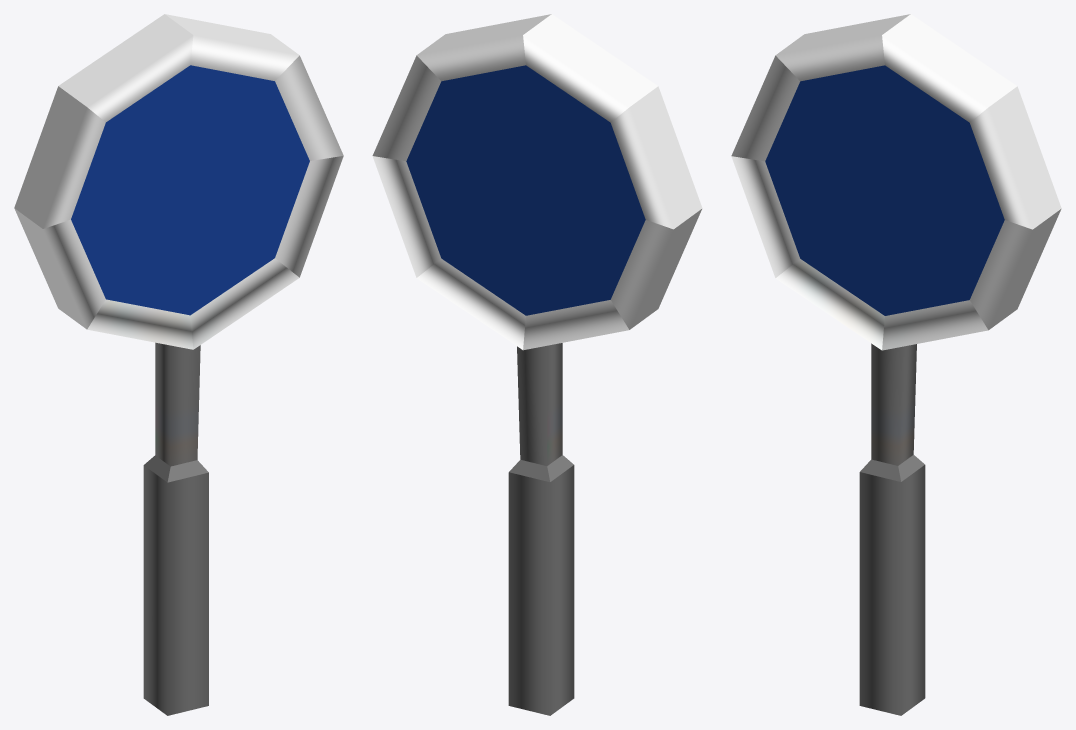
Rendered from SM_Road_Sing3.fbx.
3 renders of one model, left to right at view 1: azimuth 30°, elevation 25°; view 2: azimuth 150°, elevation 25°; view 3: azimuth 330°, elevation 25°, orthographic.
Visible parts, largest first — view 1: SM_Road_Sing3; view 2: SM_Road_Sing3; view 3: SM_Road_Sing3.
Boxes of the visible parts, x1,y1,x2,y2 form: SM_Road_Sing3: (14,14,343,715); SM_Road_Sing3: (372,14,702,715); SM_Road_Sing3: (731,14,1061,715).
Bounding box in the file's own units: 168 × 361 × 27.93.
